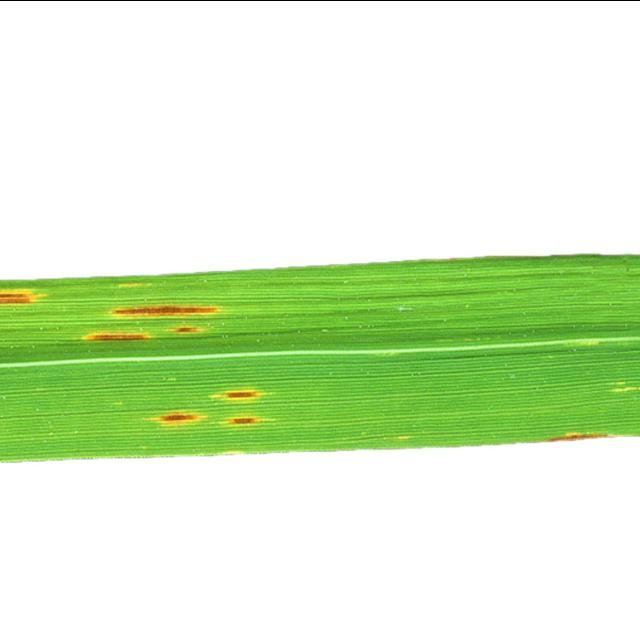Narrow brown: (0, 224, 640, 475)
